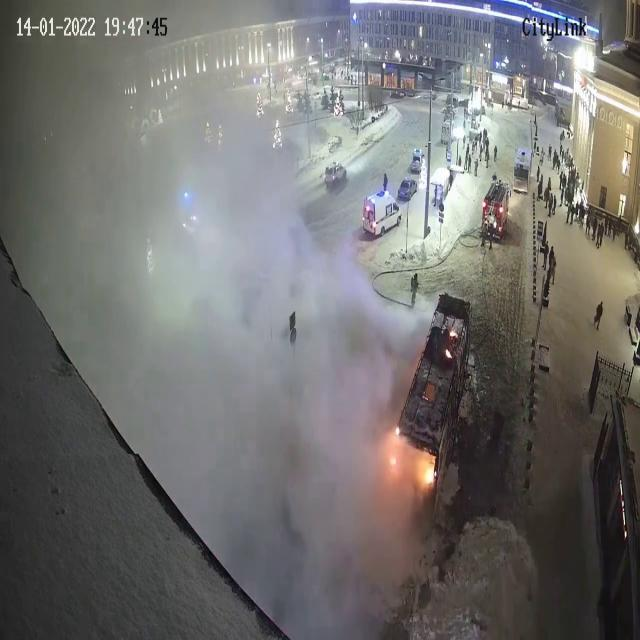Fire: (386, 430, 436, 494), (421, 452, 437, 491)
Smoke: (12, 48, 413, 630)
